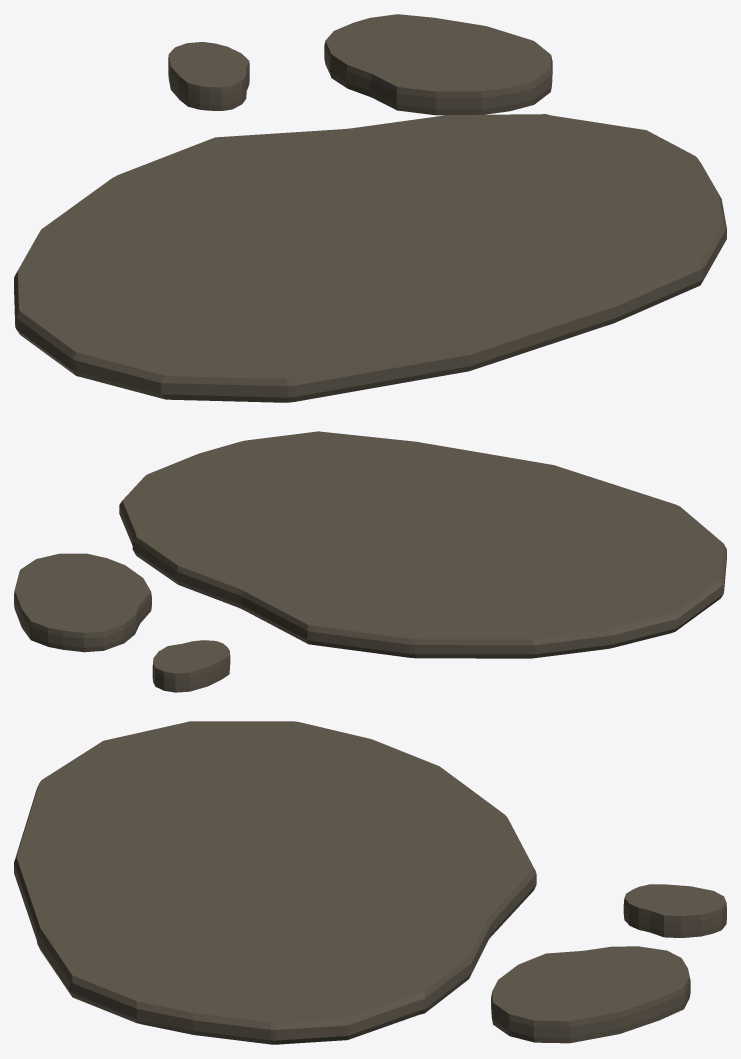
Rendered from dirty_puddle_partyassets.fbx.
3 renders of one model, top to bottom at view 1: azimuth 30°, elevation 25°; view 2: azimuth 150°, elevation 25°; view 3: azimuth 270°, elevation 25°, orthographic. The views are drawn at different scales.
Visible parts, largest first — view 1: dirty_puddle_partyassets; view 2: dirty_puddle_partyassets; view 3: dirty_puddle_partyassets.
Boxes of the visible parts, left/top/right/bottom form: dirty_puddle_partyassets: left=14, top=14, right=726, bottom=402; dirty_puddle_partyassets: left=14, top=431, right=726, bottom=692; dirty_puddle_partyassets: left=14, top=721, right=726, bottom=1044.
Bounding box in the file's own units: 68.25 × 2.3 × 67.51.
